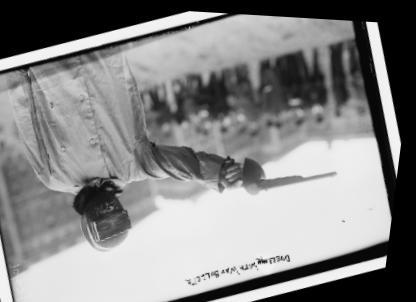pistol: (218, 122, 346, 205)
